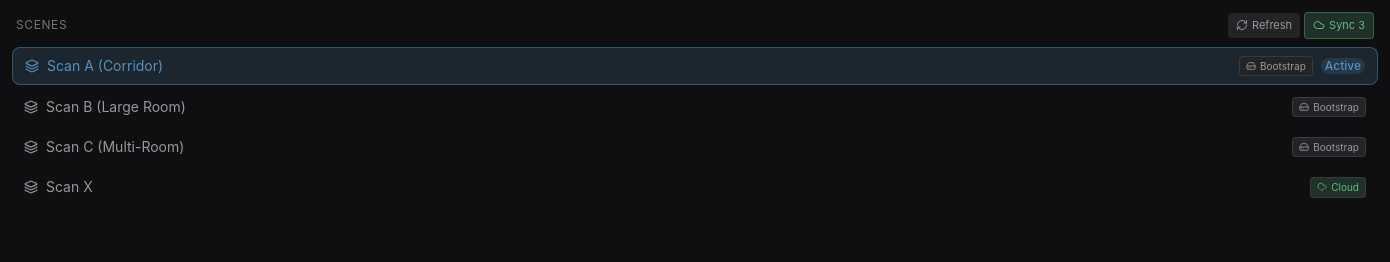
Test: official scene maintainer workflow › refresh preserves already-published Cloud rows alongside newly discovered rows
Expected: the element with test id "scene-sync-state-scan-x" reads "Cloud", [1331, 181, 1359, 193]
Click the button with test id "refresh-scenes-button".
click(1264, 25)  # box [1228, 13, 1300, 38]
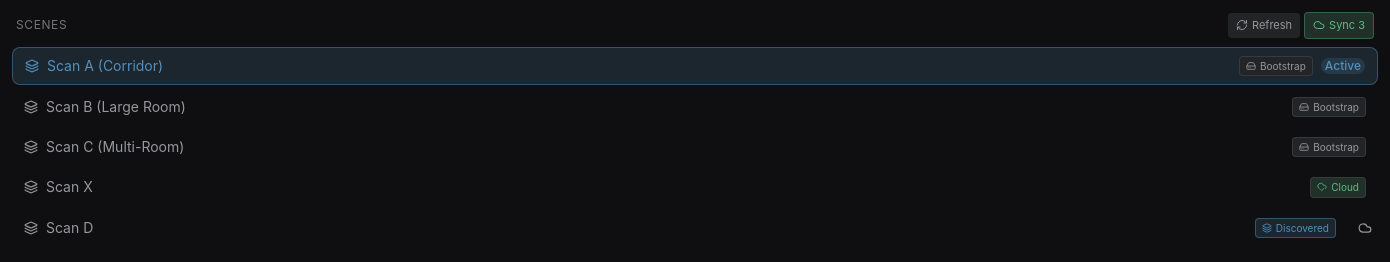
Expected: the element with test id "scene-sync-state-scan-x" reads "Cloud", [1331, 181, 1359, 193]
Expected: the button with test id "scene-item-scan-d" is shown, [12, 210, 1348, 246]
Expected: the element with test id "scene-sync-state-scan-d" reads "Discovered", [1276, 222, 1329, 234]
